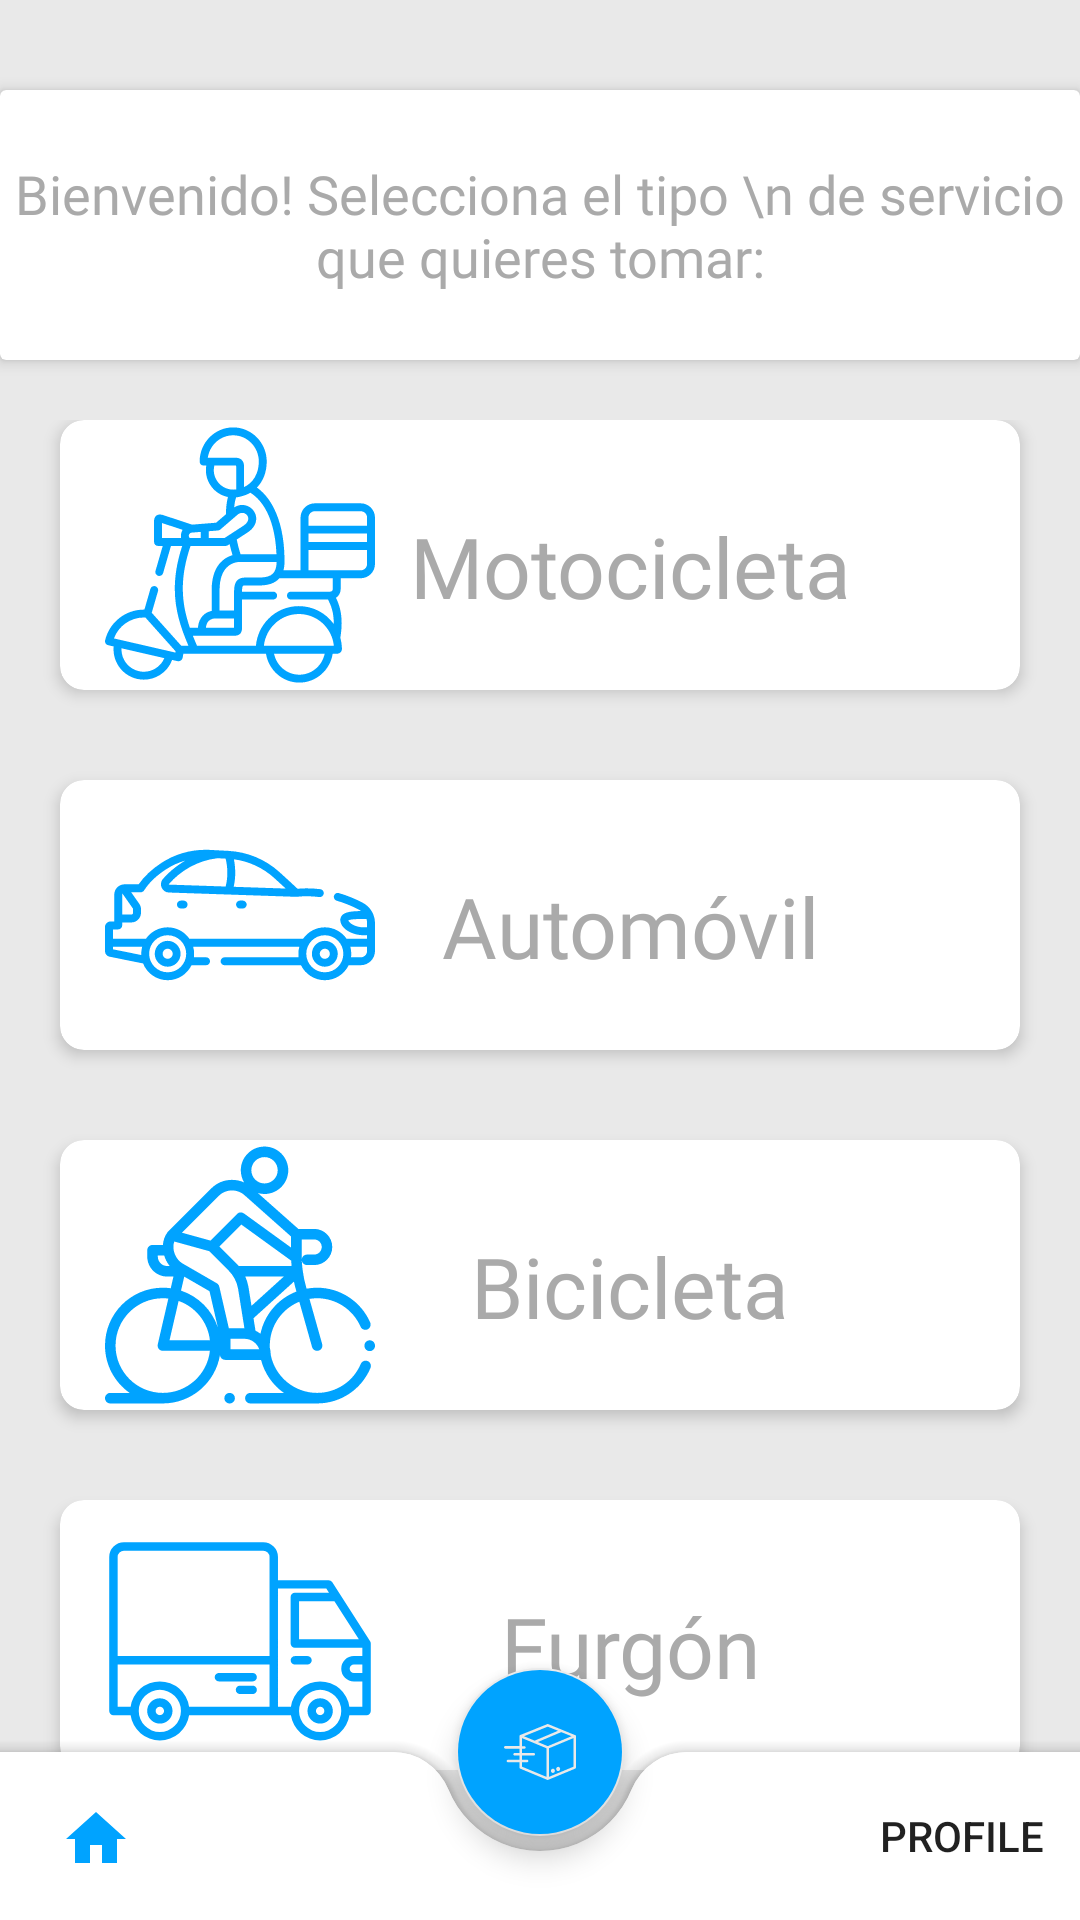

Icon click points for this 1080 x 1920 phone screenshot, format [x,y]:
bicycle: [240,1275]
caja: [540,1752]
coche: [240,915]
home: [96,1837]
repartidor: [240,555]
truck: [240,1641]
